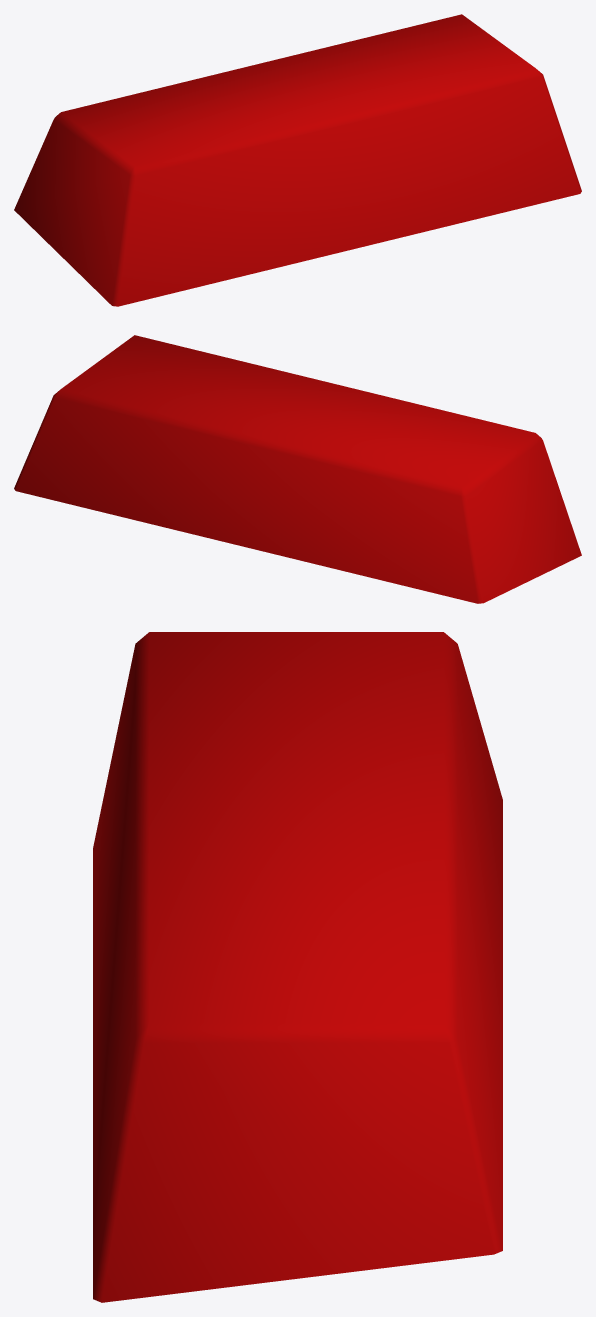
File: RightShift.fbx
3 renders of one model, top to bottom at view 1: azimuth 30°, elevation 25°; view 2: azimuth 150°, elevation 25°; view 3: azimuth 270°, elevation 25°, orthographic. The views are drawn at different scales.
Visible parts, largest first — view 1: Empty_Mesh; view 2: Empty_Mesh; view 3: Empty_Mesh.
Part boxes in pixels (x1=…): Empty_Mesh: x1=14, y1=14, x2=581, y2=306; Empty_Mesh: x1=14, y1=335, x2=581, y2=603; Empty_Mesh: x1=93, y1=632, x2=502, y2=1302.
Bounding box in the file's own units: 4.92 × 1.23 × 1.86.
